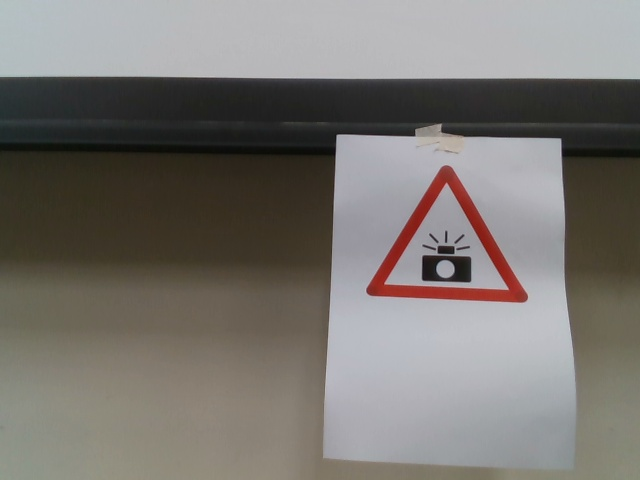camera: (364, 165, 531, 309)
